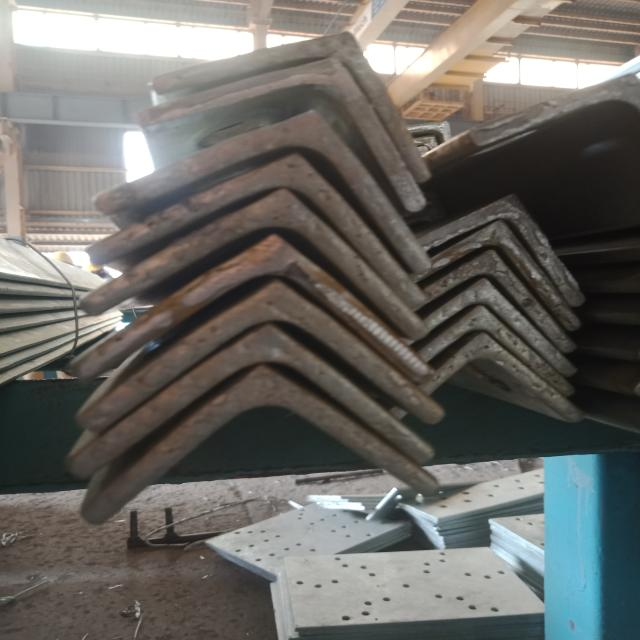metal-angles: (81, 364, 440, 525), (69, 324, 435, 480), (75, 279, 445, 433), (68, 234, 437, 384), (94, 109, 431, 273), (84, 152, 425, 309), (78, 187, 427, 340), (135, 55, 428, 213), (153, 32, 432, 182), (408, 220, 582, 331), (418, 193, 587, 306), (398, 277, 579, 377), (413, 248, 578, 354), (417, 332, 588, 423), (419, 305, 577, 398), (406, 120, 452, 142)
